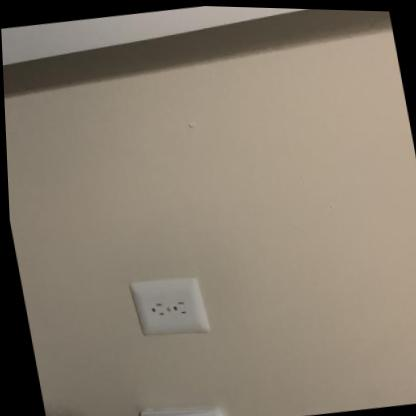OUTLET: (131, 272, 209, 339)
